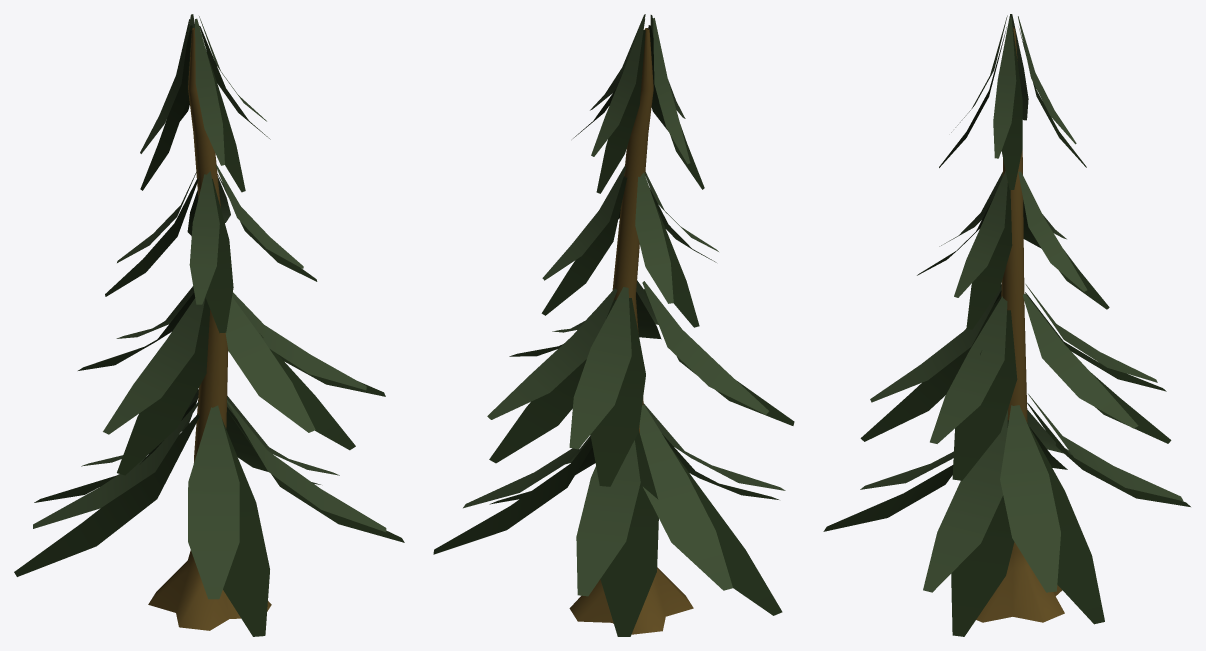
The model's file is Fir4_4.fbx.
3 views of the same model, side by side, from view 1: azimuth 30°, elevation 25°; view 2: azimuth 150°, elevation 25°; view 3: azimuth 270°, elevation 25° (orthographic). The views are drawn at different scales.
Parts seen in each view (by area): view 1: Fir4; view 2: Fir4; view 3: Fir4.
Boxes of the visible parts, x1=… form: Fir4: x1=14, y1=14, x2=404, y2=636; Fir4: x1=433, y1=14, x2=794, y2=636; Fir4: x1=823, y1=14, x2=1190, y2=636.
Bounding box in the file's own units: 966 × 1615 × 933.
